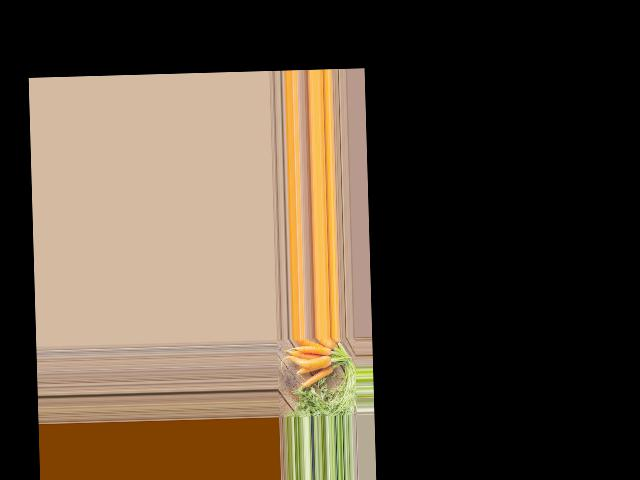carrot: (317, 337, 338, 353)
